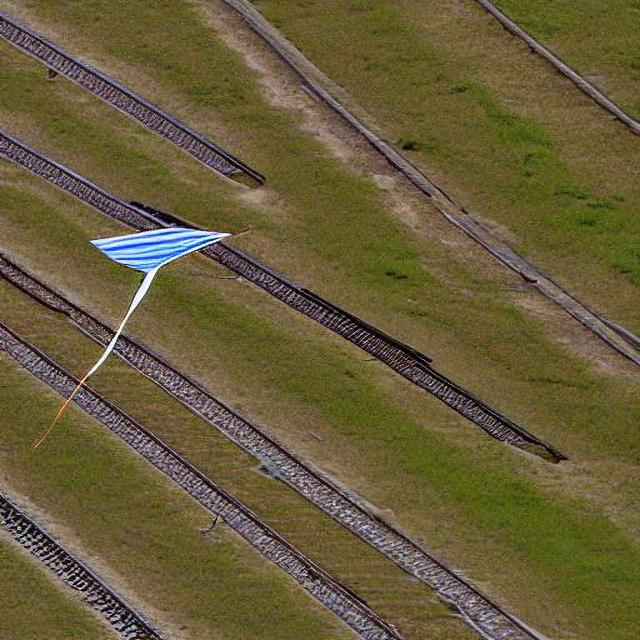floating object: (31, 191, 247, 436), (82, 219, 245, 346)
